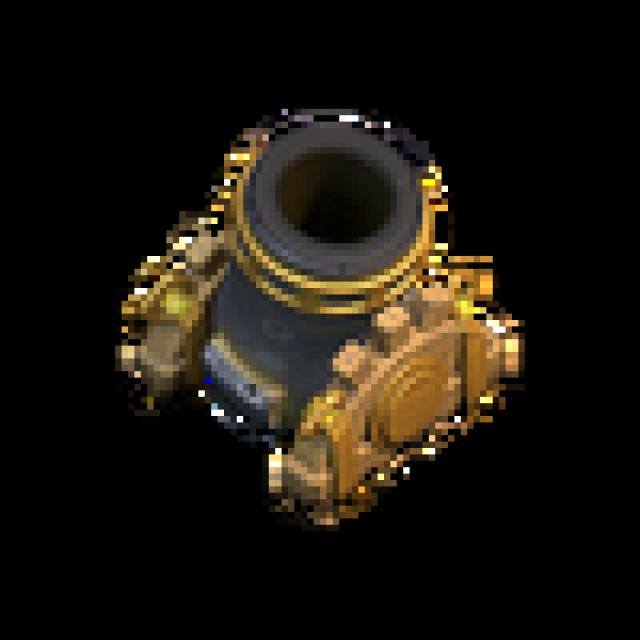mortar: (98, 88, 551, 530)
